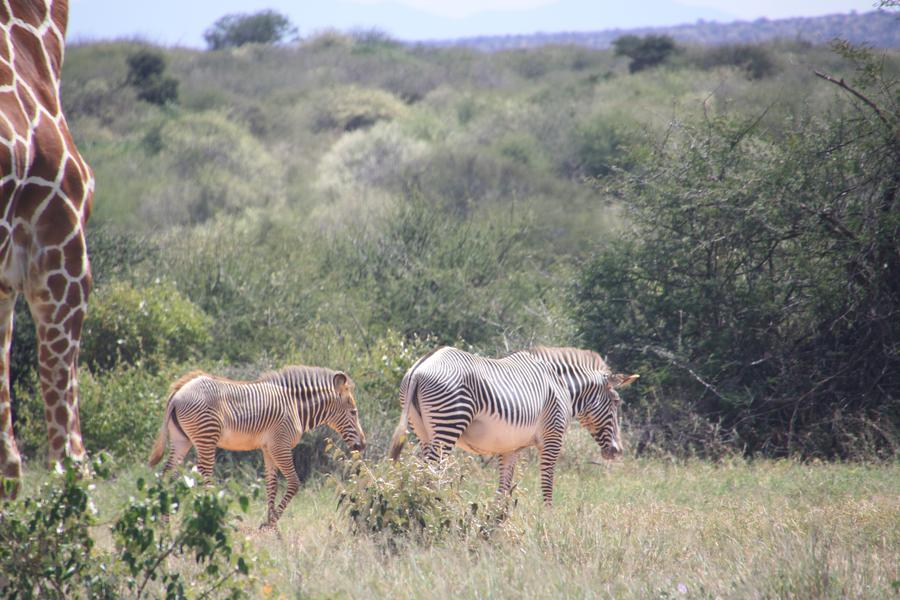zebra_grevys: (403, 340, 566, 452), (161, 350, 300, 456)
